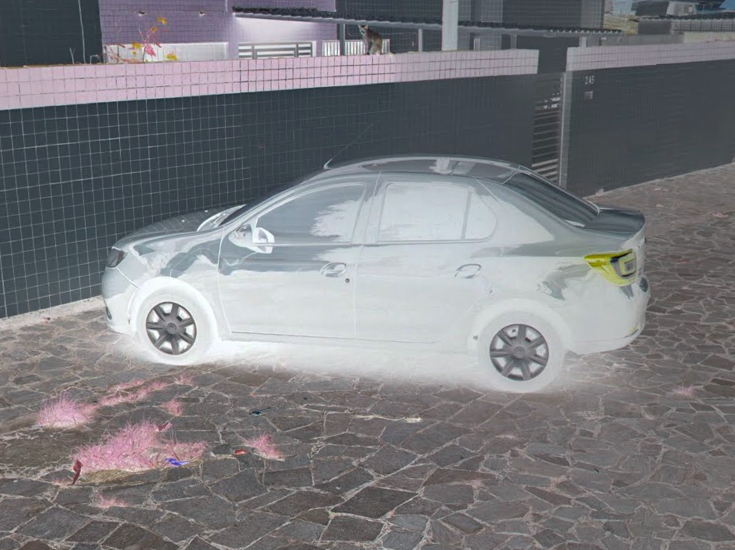car: (96, 123, 653, 392)
